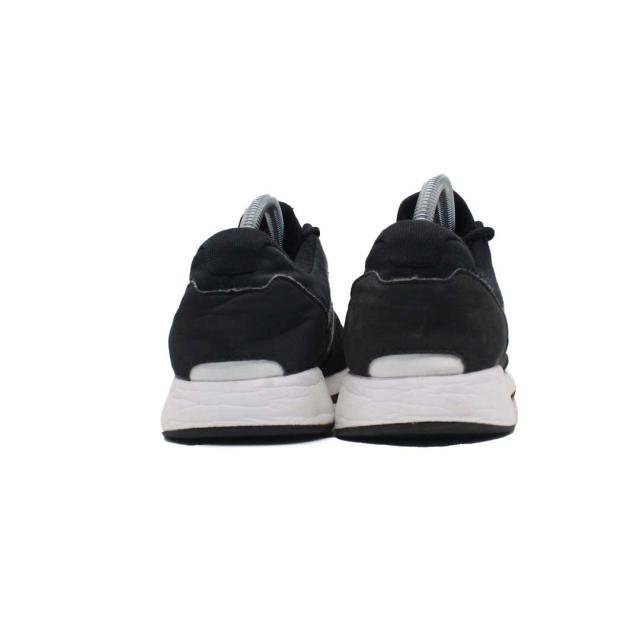heel: (170, 230, 315, 378), (358, 229, 504, 372)
midsole: (162, 380, 518, 442)
